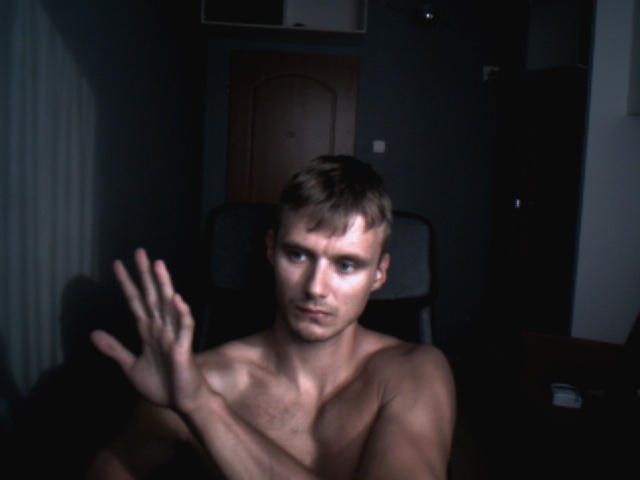open: (88, 248, 196, 407)
